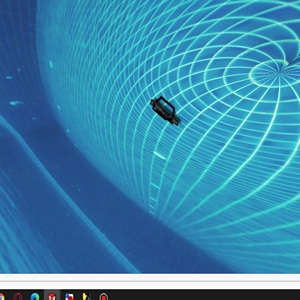submarine: (149, 95, 176, 129)
